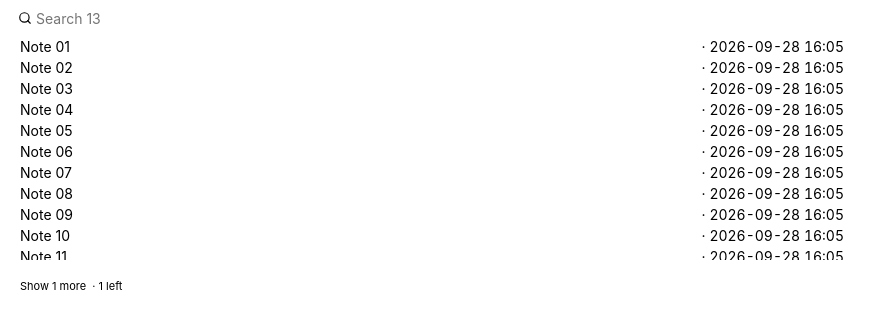
it: a long archive (#1191) › draws a page of rows and offers the rest with Show more
Check: the button "Note 13" is not shown
Click the button "Show 1 more · 1 left" at (53, 286), box [12,276,852,297]
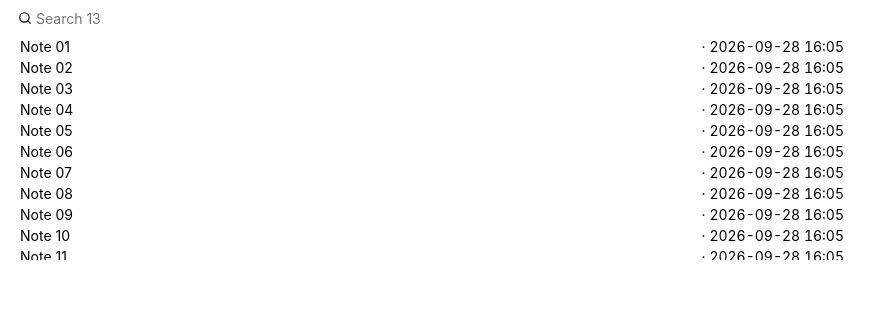
Check: the button "Show 1 more · 1 left" is gone
